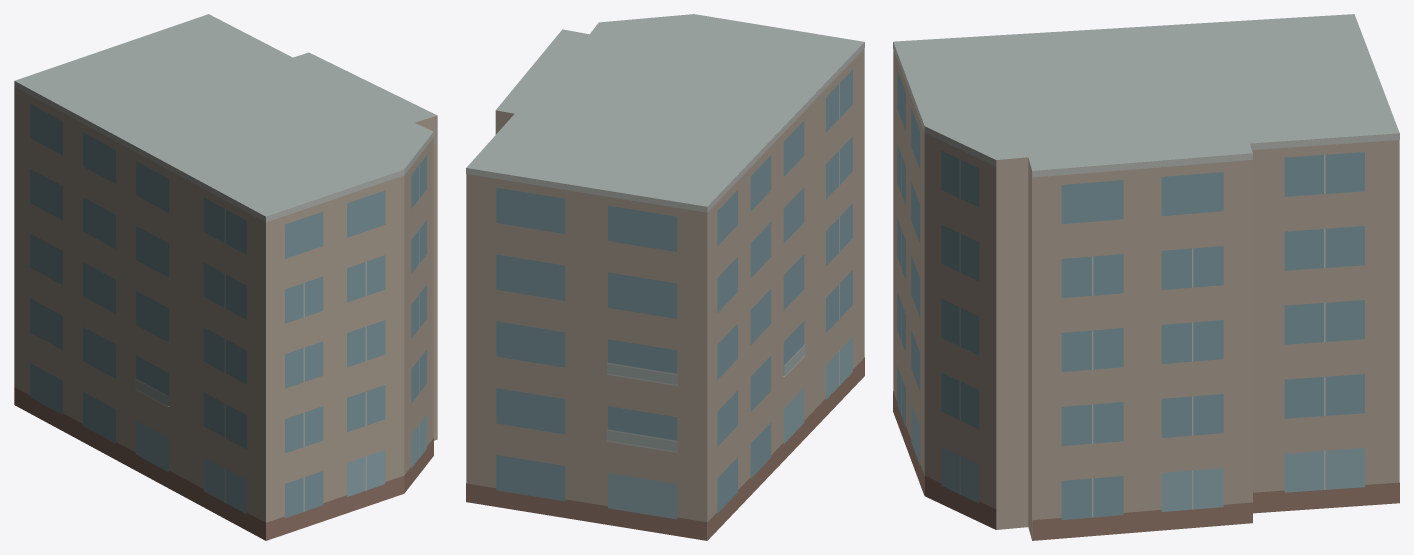
Rendered from survey-upis-32709050.glb.
3 renders of one model, left to right at view 1: azimuth 30°, elevation 25°; view 2: azimuth 150°, elevation 25°; view 3: azimuth 270°, elevation 25°, orthographic. The views are drawn at different scales.
Visible parts, largest first — view 1: survey-upis-32709050.tmp; view 2: survey-upis-32709050.tmp; view 3: survey-upis-32709050.tmp.
Boxes of the visible parts, x1,y1,x2,y2 form: survey-upis-32709050.tmp: [14, 14, 437, 540]; survey-upis-32709050.tmp: [466, 14, 864, 540]; survey-upis-32709050.tmp: [893, 14, 1399, 540].
Bounding box in the file's own units: 12.39 × 13.6 × 16.89.
